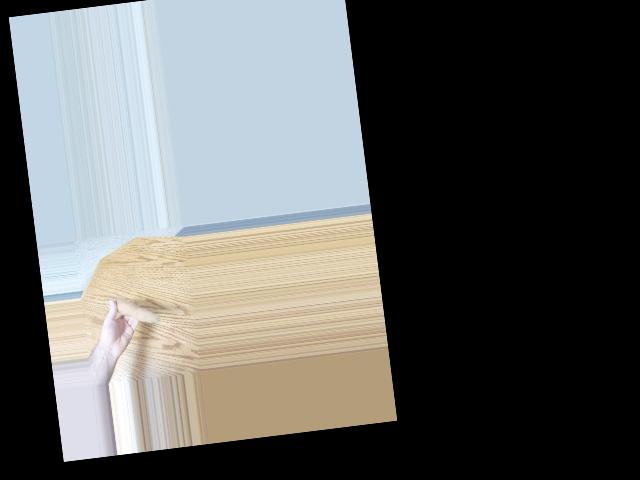sweet_potato: (106, 292, 162, 333)
